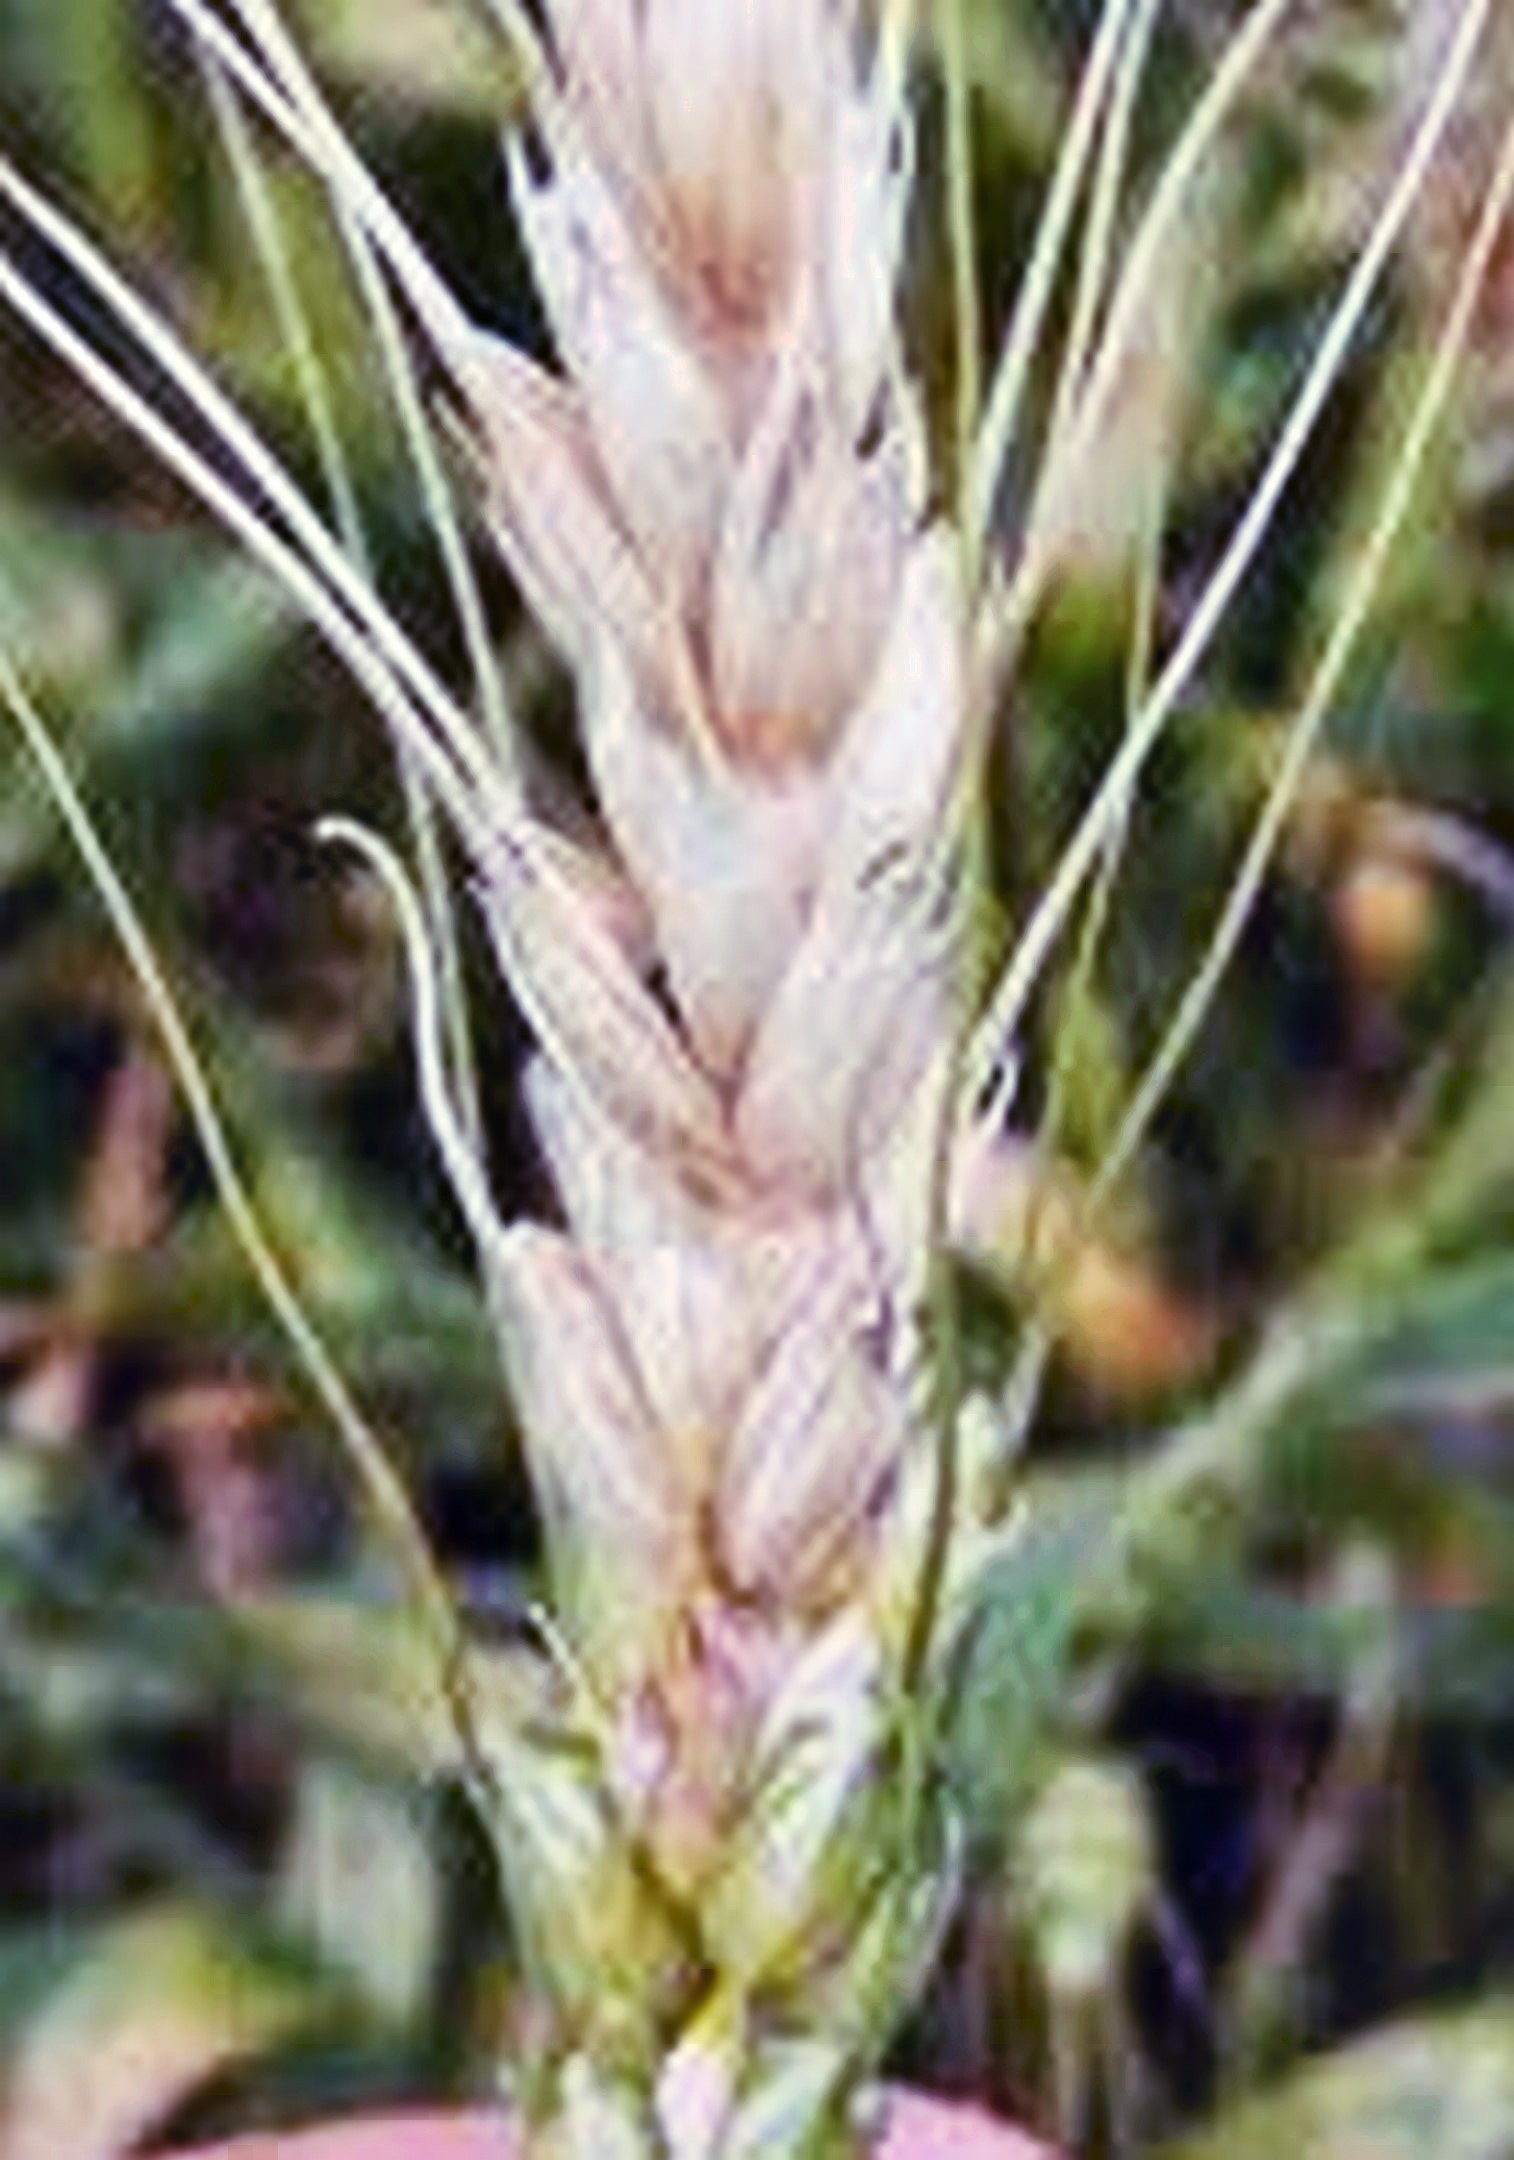Wheat scab: (379, 90, 1056, 2107)
